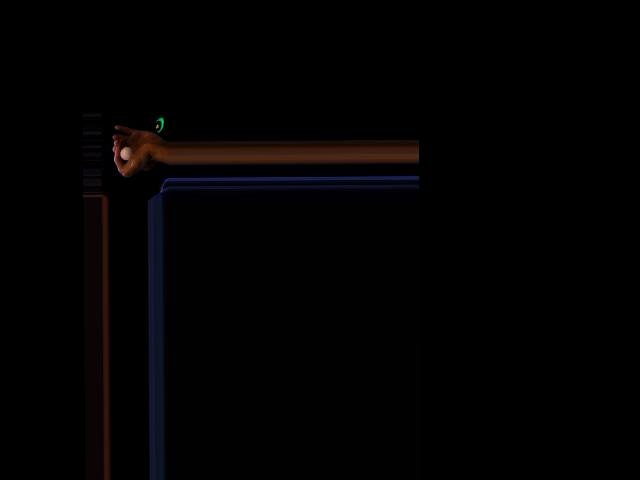egg: (120, 146, 131, 161)
